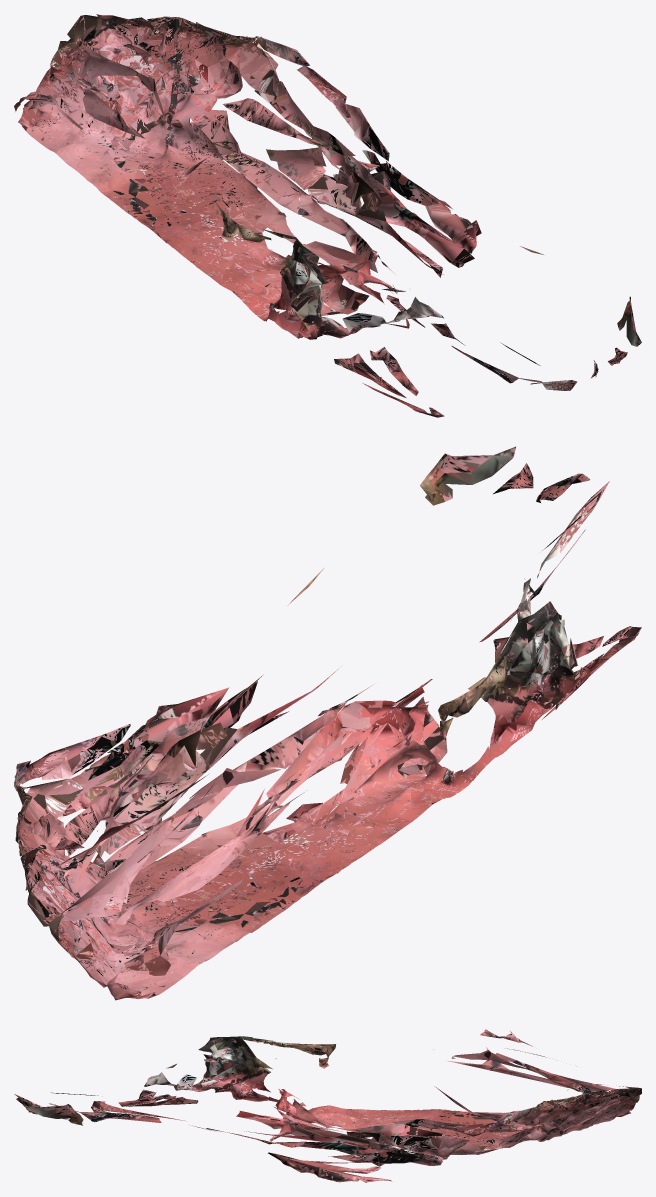
The model's file is rightR4.obj.
3 views of the same model, one above another, from view 1: azimuth 30°, elevation 25°; view 2: azimuth 150°, elevation 25°; view 3: azimuth 270°, elevation 25° (orthographic). The views are drawn at different scales.
Bounding box in the file's own units: 4793 × 2334 × 14806.
